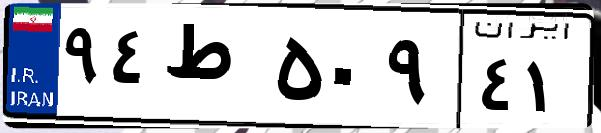0: (330, 28, 385, 110)
1: (525, 38, 570, 115)
4: (475, 38, 525, 113), (110, 28, 158, 98)
5: (270, 28, 330, 110)
9: (385, 28, 445, 110), (57, 26, 110, 100)
ط: (158, 20, 270, 120)
